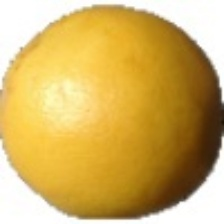grapes: (27, 21, 218, 176)
